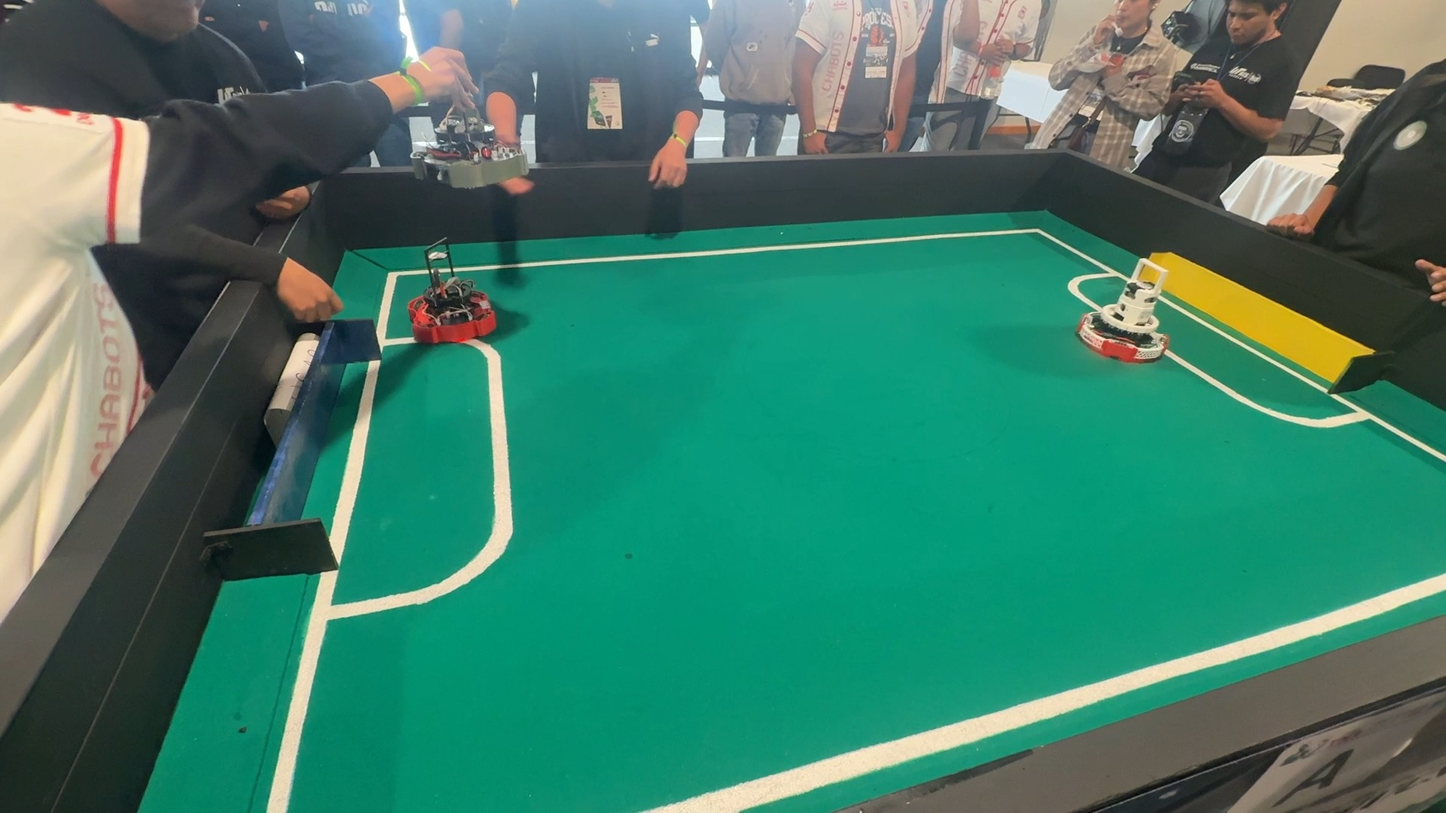Robot: (1062, 251, 1189, 375), (413, 255, 517, 347)
